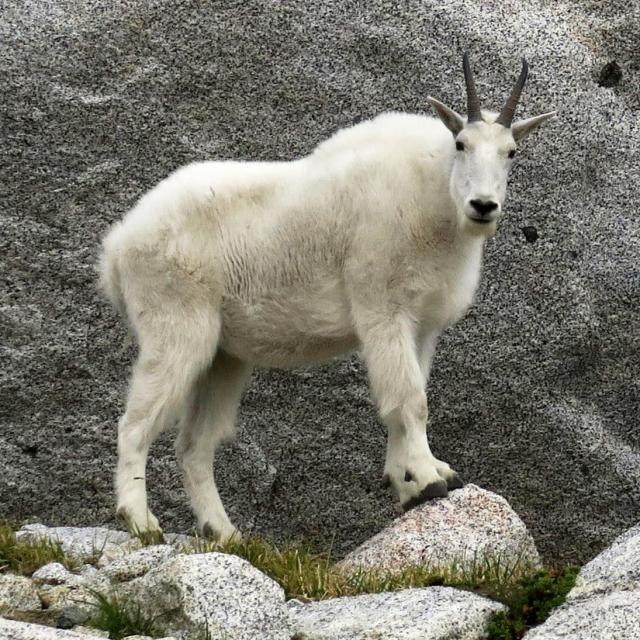Goat: (99, 56, 544, 529)
